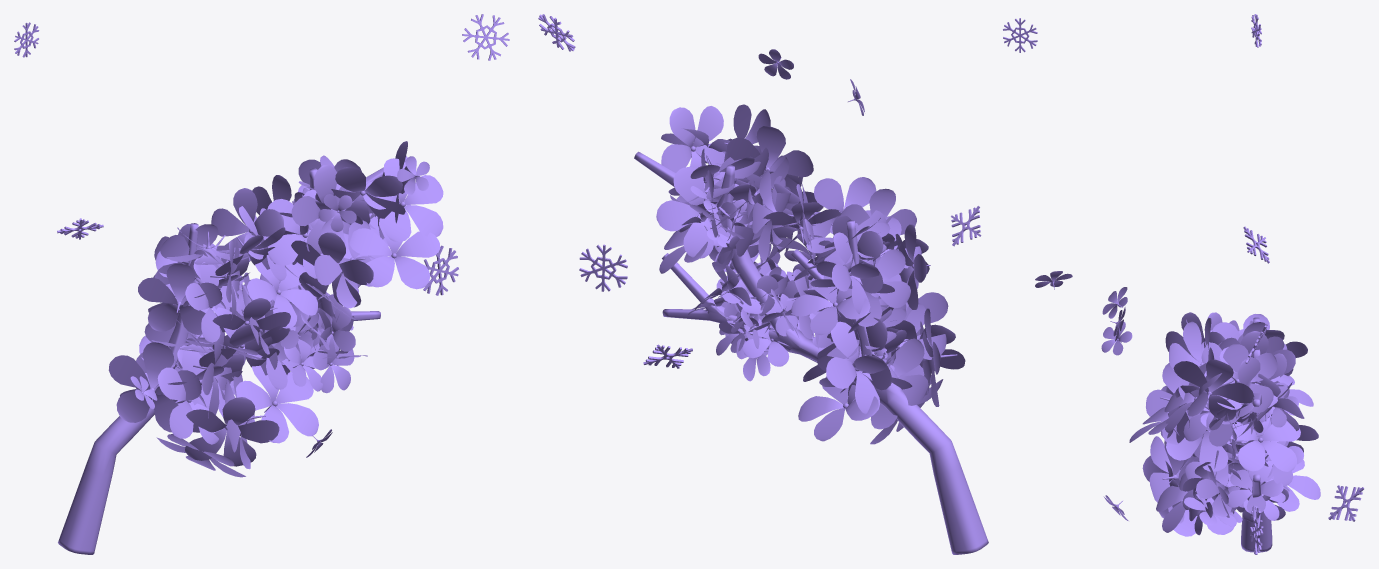
File: spring.glb
3 renders of one model, left to right at view 1: azimuth 30°, elevation 25°; view 2: azimuth 150°, elevation 25°; view 3: azimuth 270°, elevation 25°, orthographic. The views are drawn at different scales.
Parts seen in each view (by area): view 1: blossom (×5), tree, blossom.001, blossom.002, snow2.001, snow2; view 2: blossom (×6), tree, snow2; view 3: blossom (×6), tree, snow1.001, blossom.004, snow2, blossom.001, snow1.
Boxes of the visible parts, bbox=[...] form: blossom (×5): bbox=[108, 141, 443, 477]; tree: bbox=[58, 156, 407, 554]; blossom.001: bbox=[318, 194, 356, 231]; blossom.002: bbox=[397, 156, 429, 195]; snow2.001: bbox=[462, 14, 509, 60]; snow2: bbox=[423, 245, 458, 295]; blossom (×6): bbox=[656, 104, 965, 444]; tree: bbox=[634, 151, 988, 554]; snow2: bbox=[579, 244, 627, 291]; blossom (×6): bbox=[1129, 312, 1320, 536]; tree: bbox=[1241, 317, 1272, 552]; snow1.001: bbox=[1328, 485, 1364, 521]; blossom.004: bbox=[1101, 321, 1132, 355]; snow2: bbox=[1250, 506, 1263, 554]; blossom.001: bbox=[1102, 287, 1127, 318]; snow1: bbox=[1243, 226, 1269, 263].
Size of the model in its own units: 1.84 by 1.93 by 0.9051.
